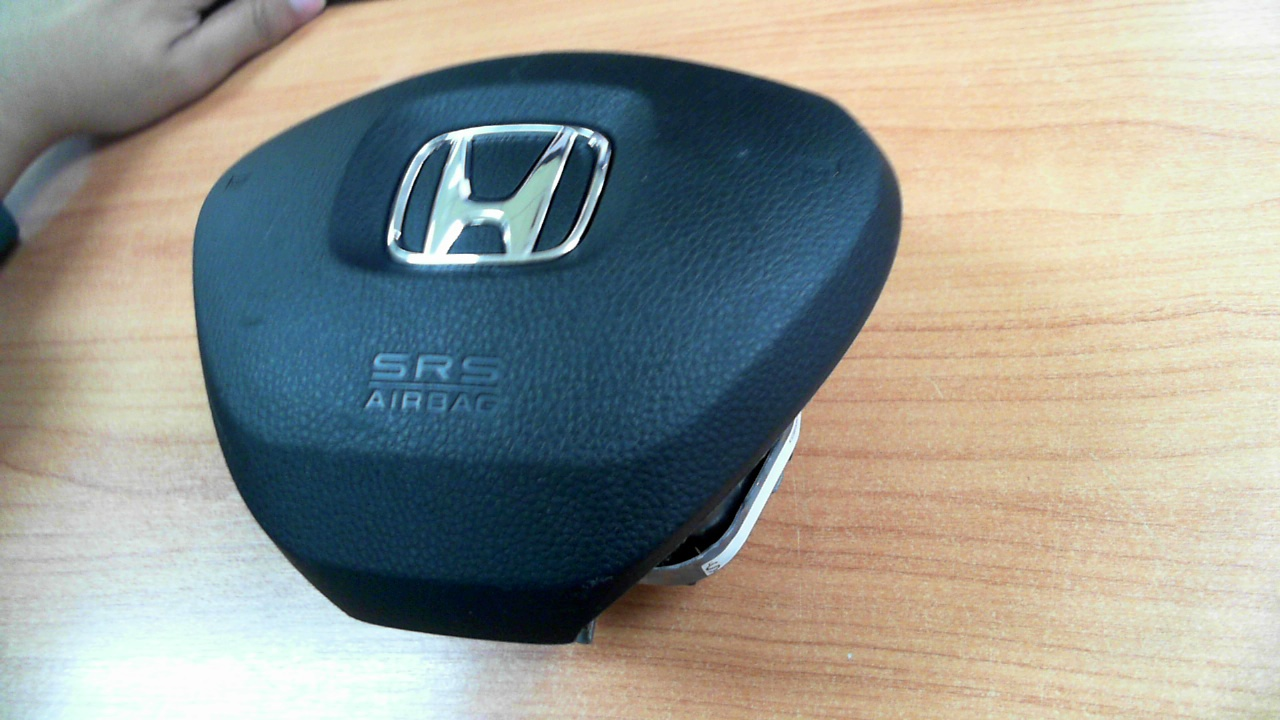Airbag: (192, 50, 901, 645)
Honda: (387, 123, 612, 265)
